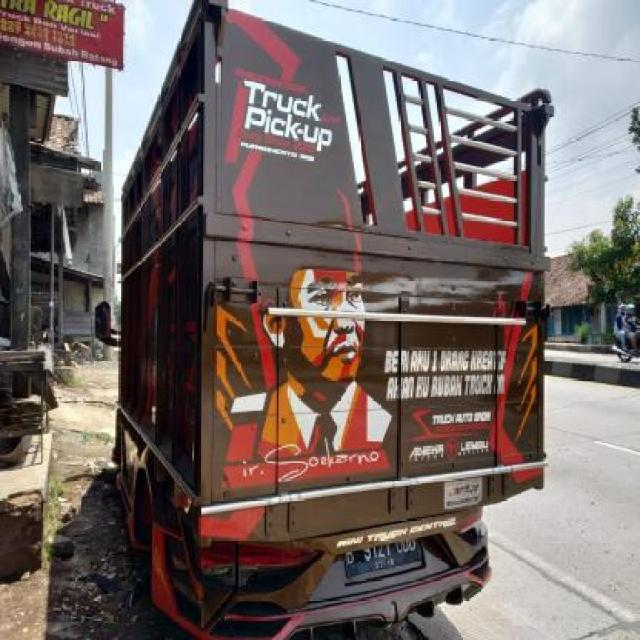truck: (96, 1, 548, 633)
